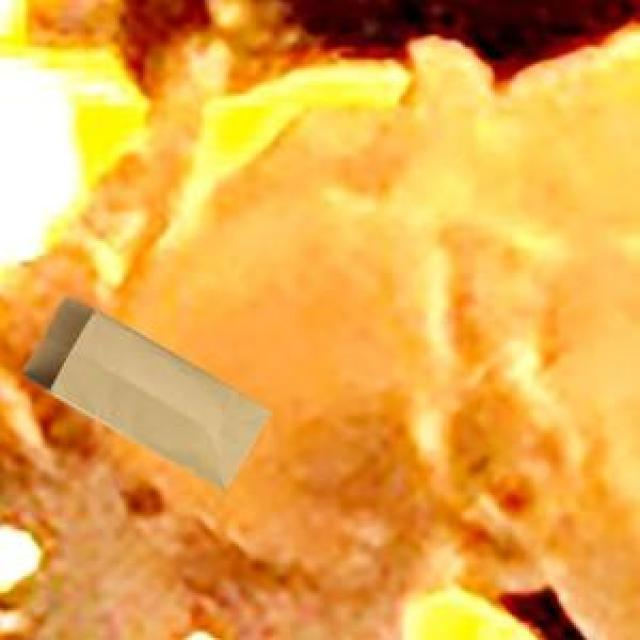Paper_Bag: (20, 296, 268, 488)
